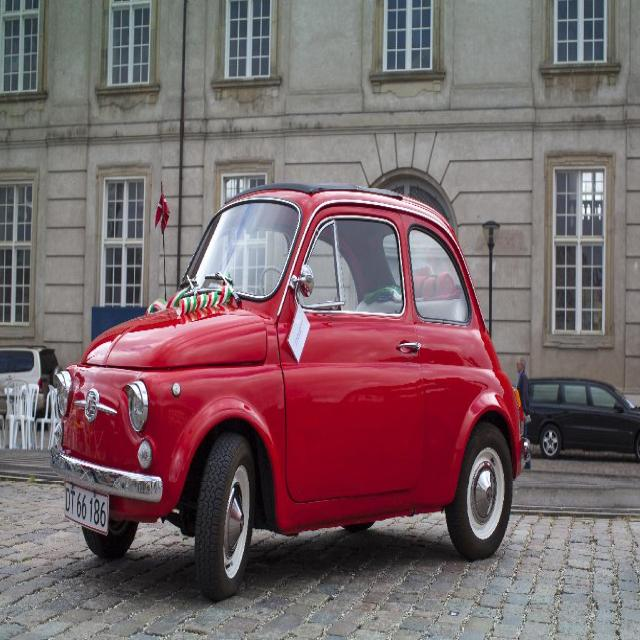car: (49, 178, 530, 599)
